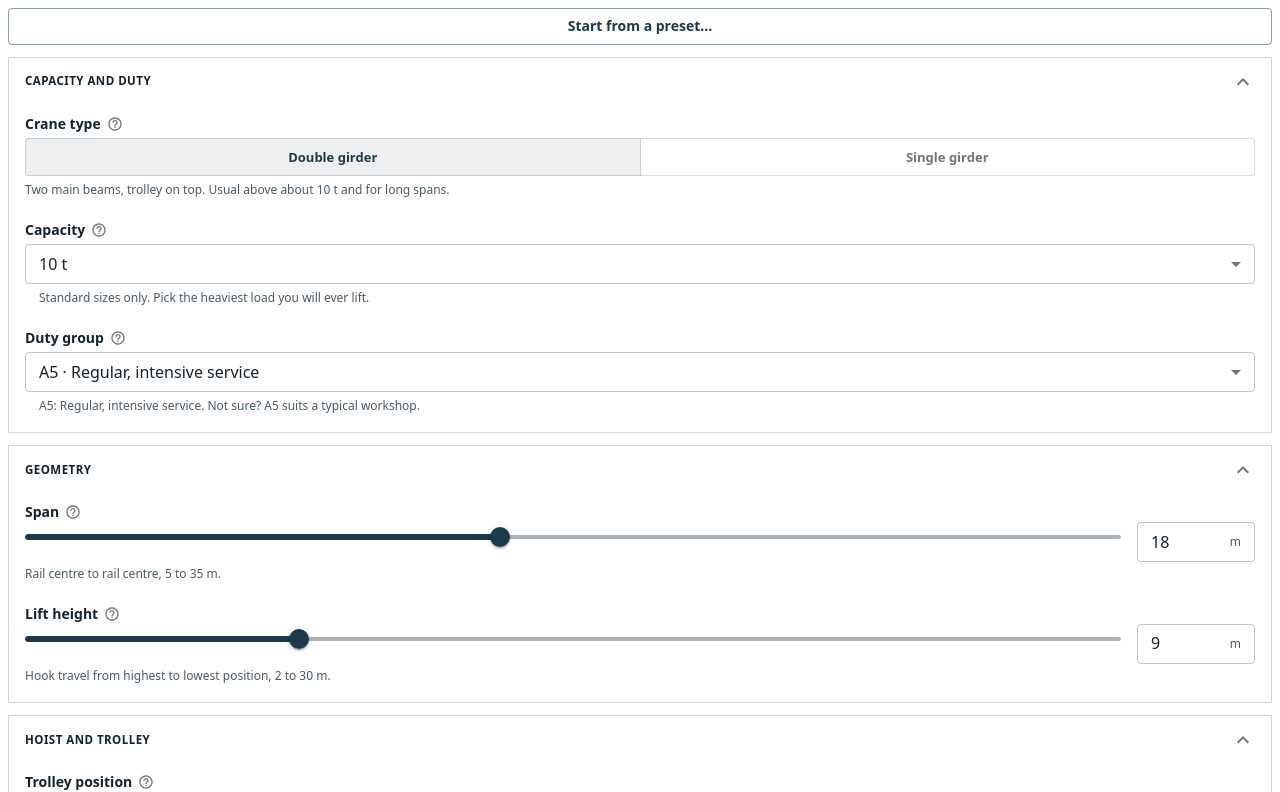
Test case: InputsPanel validation display › applies a preset
Click the button with test id "presets-button" at (640, 26), box [8, 8, 1272, 44]
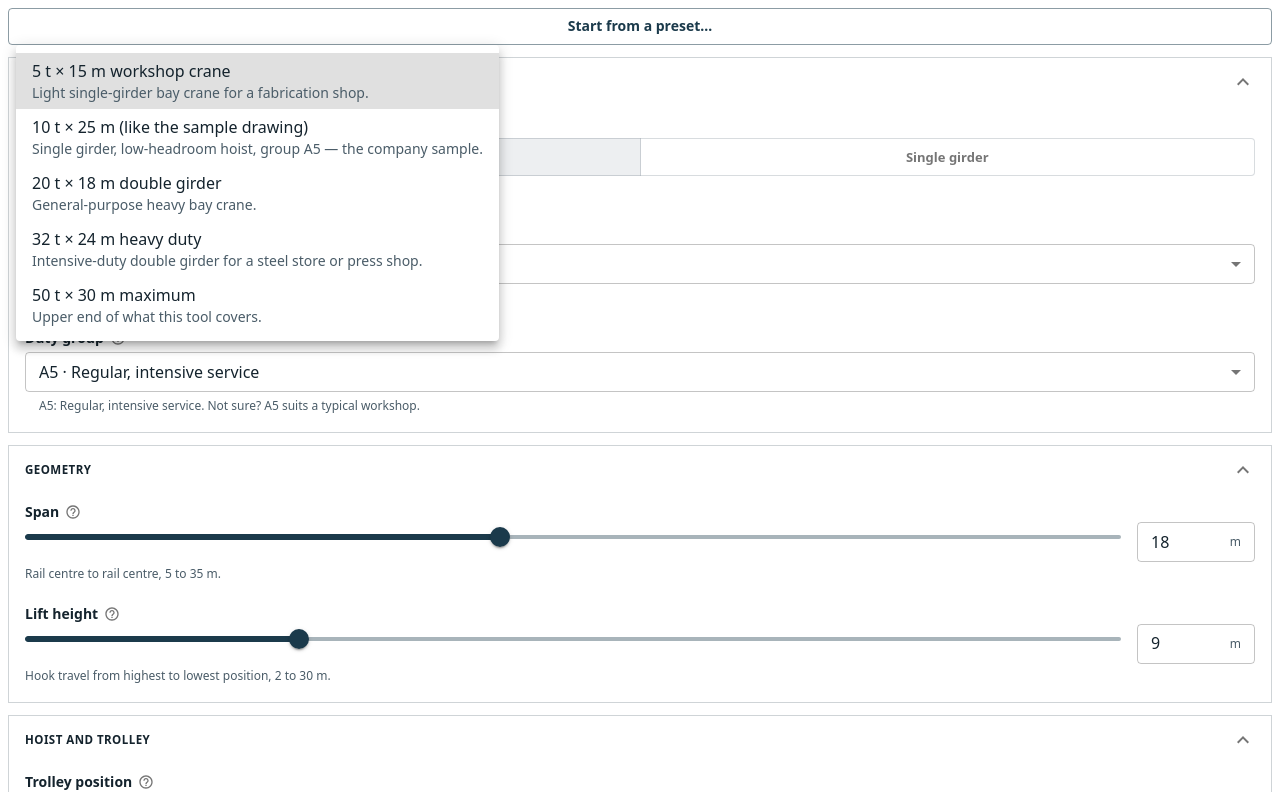
Click the menu item "10 t × 25 m" at (257, 137), box [16, 109, 499, 165]
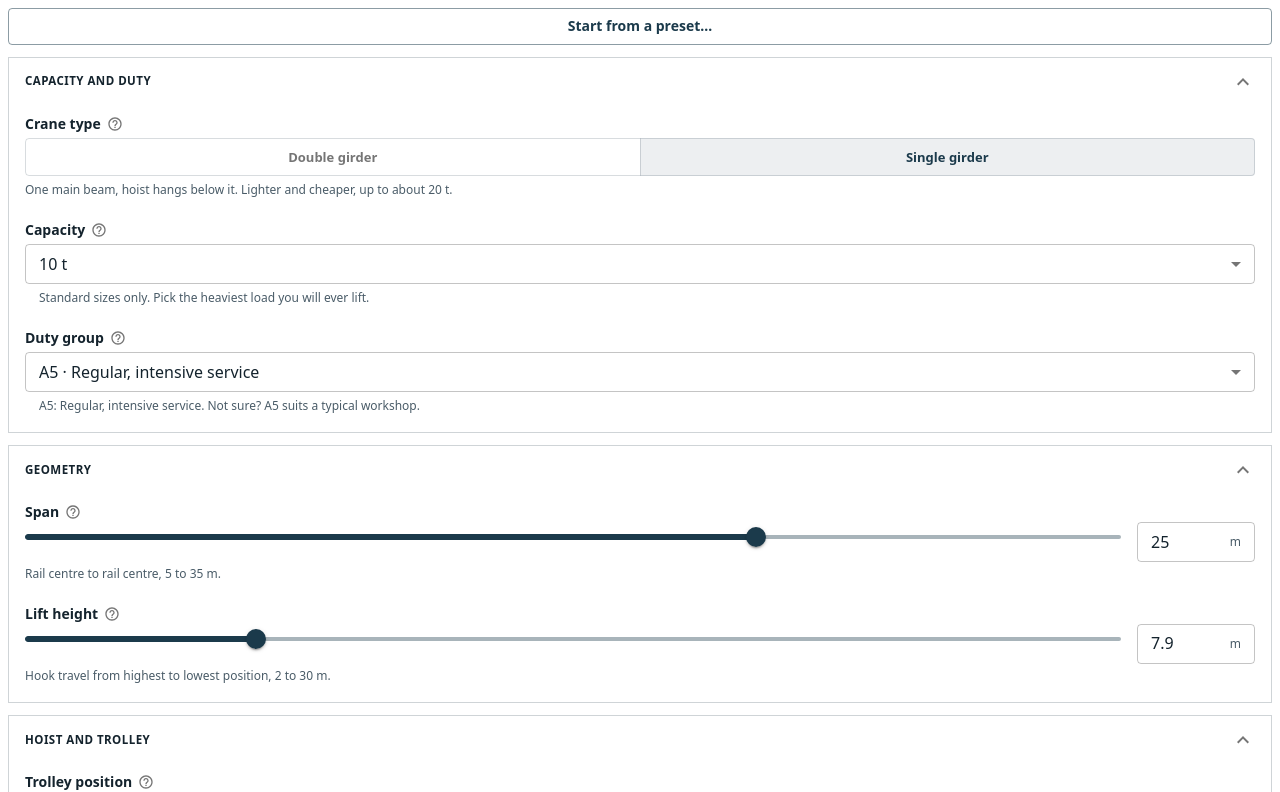
Expected: the field labelled "Span" holds "25", [1137, 522, 1230, 562]
